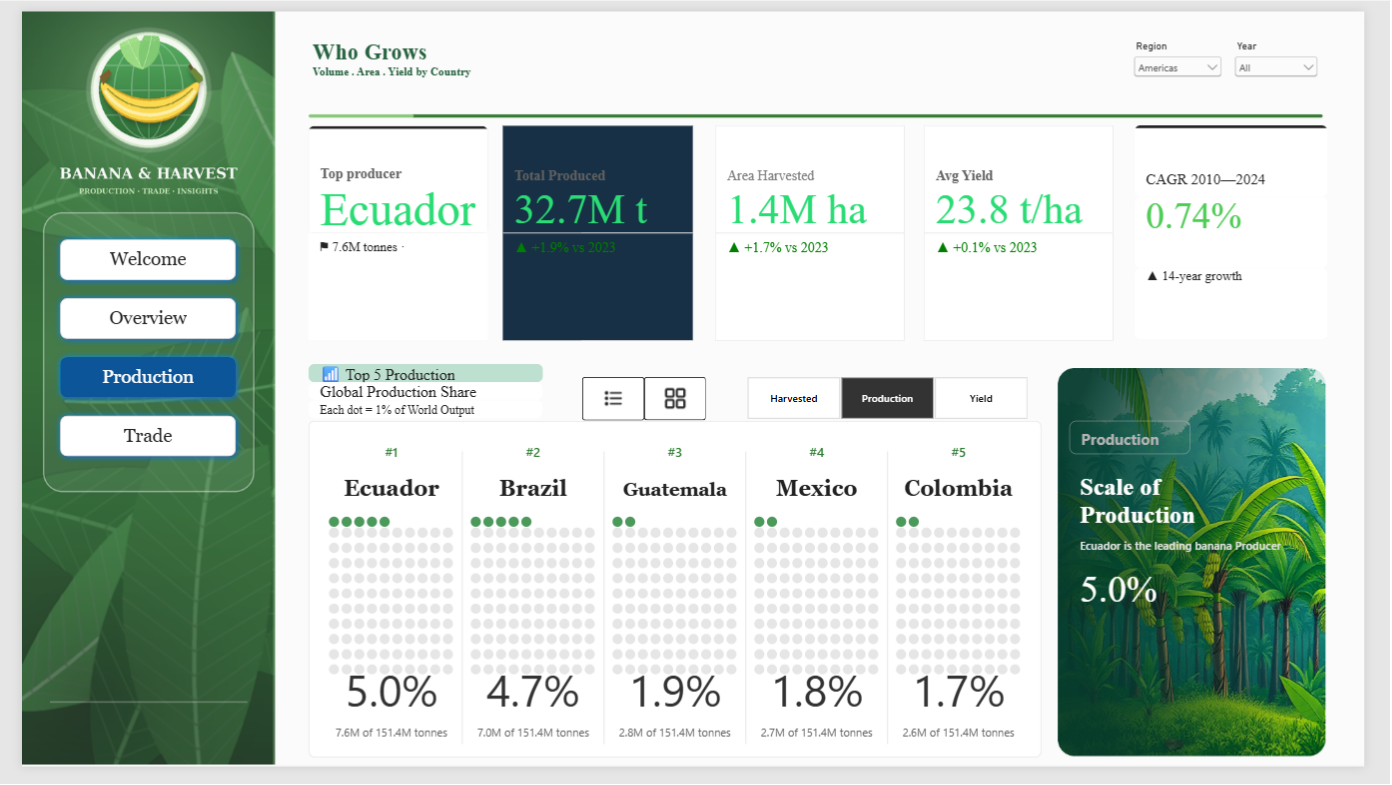

The page's visual inventory and layout, read from the dashboard file:
{"tool":"powerbi","page":{"name":"Production","canvas":[1920,1080],"ordinal":2},"visuals":[{"type":"cardVisual","fields":{"Data":["Who grows Measures.Top producer Hero Subtitle","Who grows Measures.Top producer tonnes lebel"]},"box":[409.1,162.7,259.8,309.1],"z":0},{"type":"cardVisual","fields":{"Data":["Who grows Measures.Total Production PY","All Measures.Production YoY Label"]},"box":[686.8,162.7,273.2,309.1],"z":1000},{"type":"cardVisual","fields":{"Data":["Who grows Measures.Total Area Harvested Label","Who grows Measures.Harvested YoY Label"]},"box":[991.4,162.7,271.7,309.1],"z":2000},{"type":"cardVisual","fields":{"Data":["Who grows Measures.yeild level","Who grows Measures.Yield YoY Label"]},"box":[1290,162.7,271.7,309.1],"z":3000},{"type":"cardVisual","fields":{"Data":["global measures.CAGR Title","global measures.Production CAGR %","global measures.CAGR Label"]},"box":[1591.8,162.7,276.3,308.5],"z":4000},{"type":"slicer","fields":{"Values":["year.Year"]},"box":[1730.3,40.9,128.3,69.6],"z":5000},{"type":"cardVisual","fields":{"Data":["global measures.Top 5 level","global measures.Top 5 level 2","global measures.top 5 Level 3"]},"box":[409.7,504.9,335.6,80.1],"z":6000},{"type":"slicer","fields":{"Values":["Prod Metric.Metric"]},"box":[1017.4,521.6,439.9,63.5],"z":7000},{"type":"htmlContent443BE3AD55E043BF878BED274D3A6855","title":"grid view","fields":{"content":["global measures.Share Dots SVG"]},"box":[409.7,585.1,1047.7,480.8],"z":8000},{"type":"actionButton","box":[890.1,522.5,88.2,61.7],"z":10000},{"type":"actionButton","box":[801.2,522.5,88.9,61.9],"z":11000},{"type":"image","box":[1478.6,510.4,389.2,554.8],"z":12000},{"type":"cardVisual","fields":{"Data":["global measures.Prod Metric Selected level"]},"box":[1497.9,584.8,175.3,50.5],"z":13000},{"type":"cardVisual","fields":{"Data":["global measures.Production Message"]},"box":[1497.9,635.3,295.9,126.2],"z":14000},{"type":"cardVisual","fields":{"Data":["global measures.Production Message 2"]},"box":[1497.9,737.7,342.2,50.5],"z":15000},{"type":"cardVisual","fields":{"Data":["global measures.Top producer share percentage"]},"box":[1497.9,795.2,342.2,60.3],"z":16000},{"type":"textbox","box":[415.1,40.3,461.3,100],"z":17000},{"type":"pageNavigator","box":[45.4,317.5,269.1,329.6],"z":18000},{"type":"slicer","fields":{"Values":["country.region"]},"box":[1585.7,40.9,135.1,71],"z":19000}]}

Visuals, with their boxes in screenshot pixels (x1, y1, x2, y2), scaled from the page's 1920x1080 canvas onto the 1392x785 screenshot:
cardVisual - Who grows Measures.Top producer Hero Subtitle x Who grows Measures.Top producer tonnes lebel: x1=297 y1=118 x2=485 y2=343
cardVisual - Who grows Measures.Total Production PY x All Measures.Production YoY Label: x1=498 y1=118 x2=696 y2=343
cardVisual - Who grows Measures.Total Area Harvested Label x Who grows Measures.Harvested YoY Label: x1=719 y1=118 x2=916 y2=343
cardVisual - Who grows Measures.yeild level x Who grows Measures.Yield YoY Label: x1=935 y1=118 x2=1132 y2=343
cardVisual - global measures.CAGR Title x global measures.Production CAGR %: x1=1154 y1=118 x2=1354 y2=342
slicer - year.Year: x1=1254 y1=30 x2=1347 y2=80
cardVisual - global measures.Top 5 level x global measures.Top 5 level 2: x1=297 y1=367 x2=540 y2=425
slicer - Prod Metric.Metric: x1=738 y1=379 x2=1057 y2=425
"grid view" htmlContent443BE3AD55E043BF878BED274D3A6855: x1=297 y1=425 x2=1057 y2=775
actionButton: x1=645 y1=380 x2=709 y2=425
actionButton: x1=581 y1=380 x2=645 y2=425
image: x1=1072 y1=371 x2=1354 y2=774
cardVisual - global measures.Prod Metric Selected level: x1=1086 y1=425 x2=1213 y2=462
cardVisual - global measures.Production Message: x1=1086 y1=462 x2=1301 y2=553
cardVisual - global measures.Production Message 2: x1=1086 y1=536 x2=1334 y2=573
cardVisual - global measures.Top producer share percentage: x1=1086 y1=578 x2=1334 y2=622
textbox: x1=301 y1=29 x2=635 y2=102
pageNavigator: x1=33 y1=231 x2=228 y2=470
slicer - country.region: x1=1150 y1=30 x2=1248 y2=81
